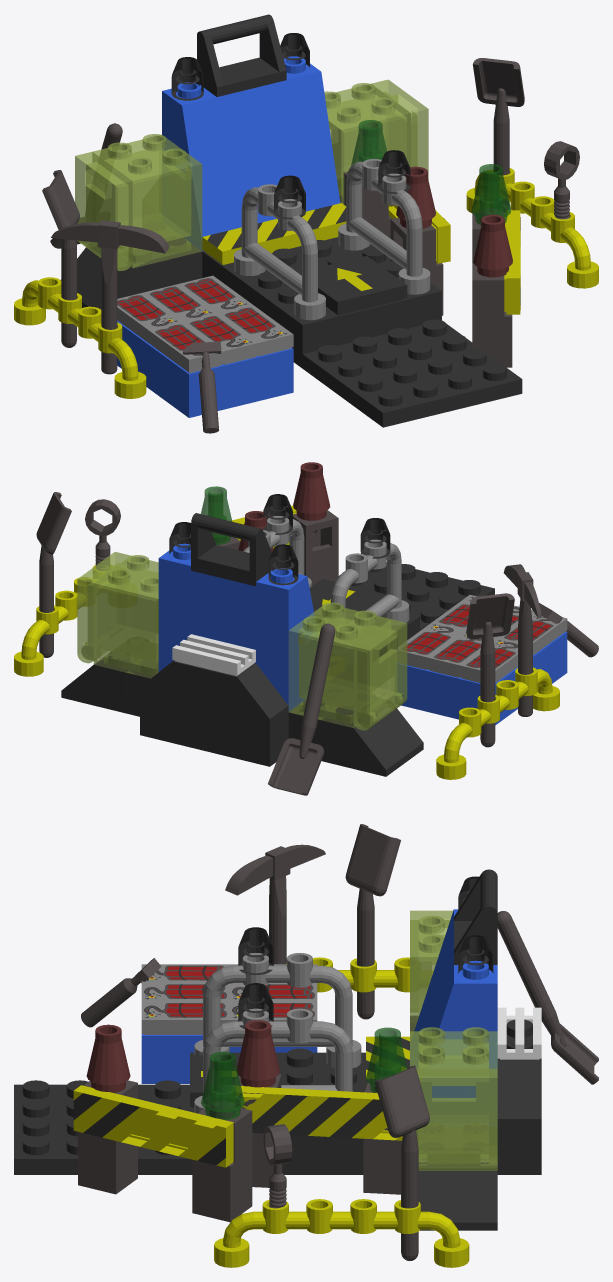
The model's file is toolStore.obj.
3 renders of one model, top to bottom at view 1: azimuth 30°, elevation 25°; view 2: azimuth 150°, elevation 25°; view 3: azimuth 270°, elevation 25°, orthographic. The views are drawn at different scales.
Visible parts, largest first — view 1: Piece55, Piece48, Piece39, Piece47, Piece53, Piece24, Piece51, Piece50, Piece43, Piece15, Piece8, Piece16 (+34 smaller); view 2: Piece39, Piece48, Piece43, Piece55, Piece47, Piece41, Piece40, Piece15, Piece8, Piece13, Piece44, Piece36 (+32 smaller); view 3: Piece55, Piece43, Piece30, Piece16, Piece44, Piece25, Piece51, Piece47, Piece45, Piece50, Piece14, Piece12 (+33 smaller).
Boxes of the visible parts, left/top/right/bottom form: Piece55: left=292, top=319, right=522, bottom=427; Piece48: left=162, top=82, right=270, bottom=251; Piece39: left=79, top=134, right=202, bottom=268; Piece47: left=252, top=56, right=340, bottom=219; Piece53: left=202, top=237, right=441, bottom=339; Piece24: left=149, top=344, right=293, bottom=417; Piece51: left=234, top=184, right=325, bottom=320; Piece50: left=338, top=159, right=430, bottom=294; Piece43: left=324, top=83, right=410, bottom=204; Piece15: left=14, top=277, right=146, bottom=398; Piece8: left=197, top=14, right=286, bottom=96; Piece16: left=466, top=168, right=598, bottom=288; Piece39: left=288, top=602, right=403, bottom=727; Piece48: left=223, top=568, right=314, bottom=711; Piece43: left=81, top=555, right=158, bottom=678; Piece55: left=140, top=562, right=494, bottom=766; Piece47: left=158, top=543, right=223, bottom=671; Piece41: left=321, top=706, right=423, bottom=776; Piece40: left=353, top=619, right=407, bottom=730; Piece15: left=436, top=667, right=559, bottom=779; Piece8: left=191, top=513, right=271, bottom=586; Piece13: left=268, top=623, right=335, bottom=795; Piece44: left=77, top=552, right=130, bottom=663; Piece36: left=205, top=663, right=288, bottom=725; Piece55: left=14, top=1080, right=541, bottom=1174; Piece43: left=410, top=1027, right=497, bottom=1170; Piece30: left=73, top=1085, right=233, bottom=1167; Piece16: left=214, top=1199, right=469, bottom=1267; Piece44: left=416, top=1068, right=497, bottom=1170; Piece25: left=234, top=1086, right=402, bottom=1140; Piece51: left=194, top=953, right=361, bottom=1067; Piece47: left=415, top=946, right=497, bottom=1097; Piece45: left=418, top=1158, right=497, bottom=1230; Piece50: left=194, top=1008, right=352, bottom=1113; Piece14: left=374, top=1065, right=429, bottom=1260; Piece12: left=345, top=824, right=400, bottom=1019.
Size of the model in its own units: 11.67 by 5.01 by 10.64.
